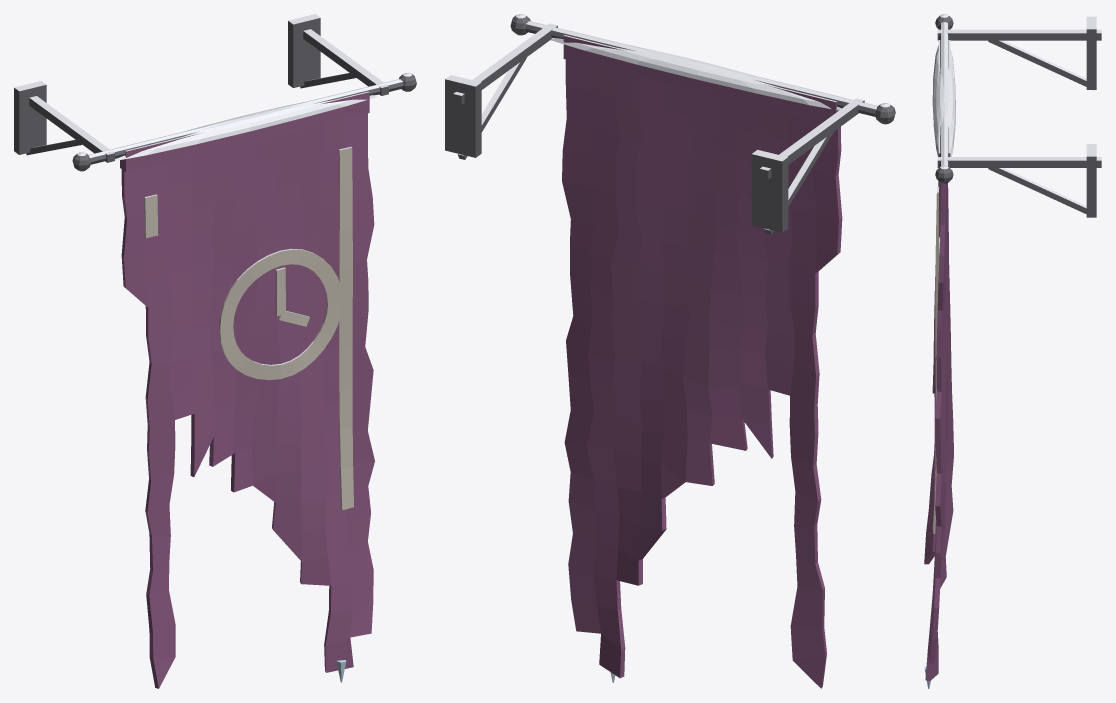
Rendered from PR_Estandarte_B.fbx.
The picture shows the model from 3 angles, left to right: view 1: azimuth 30°, elevation 25°; view 2: azimuth 150°, elevation 25°; view 3: azimuth 270°, elevation 25°; orthographic projection. The views are drawn at different scales.
Visible parts, largest first — view 1: PR_Estandarte_B; view 2: PR_Estandarte_B; view 3: PR_Estandarte_B.
Boxes of the visible parts, <box> form: PR_Estandarte_B: <box>14,14,416,688</box>; PR_Estandarte_B: <box>445,14,895,688</box>; PR_Estandarte_B: <box>924,14,1101,688</box>.
Bounding box in the file's own units: 2.25 × 3.7 × 1.06.
